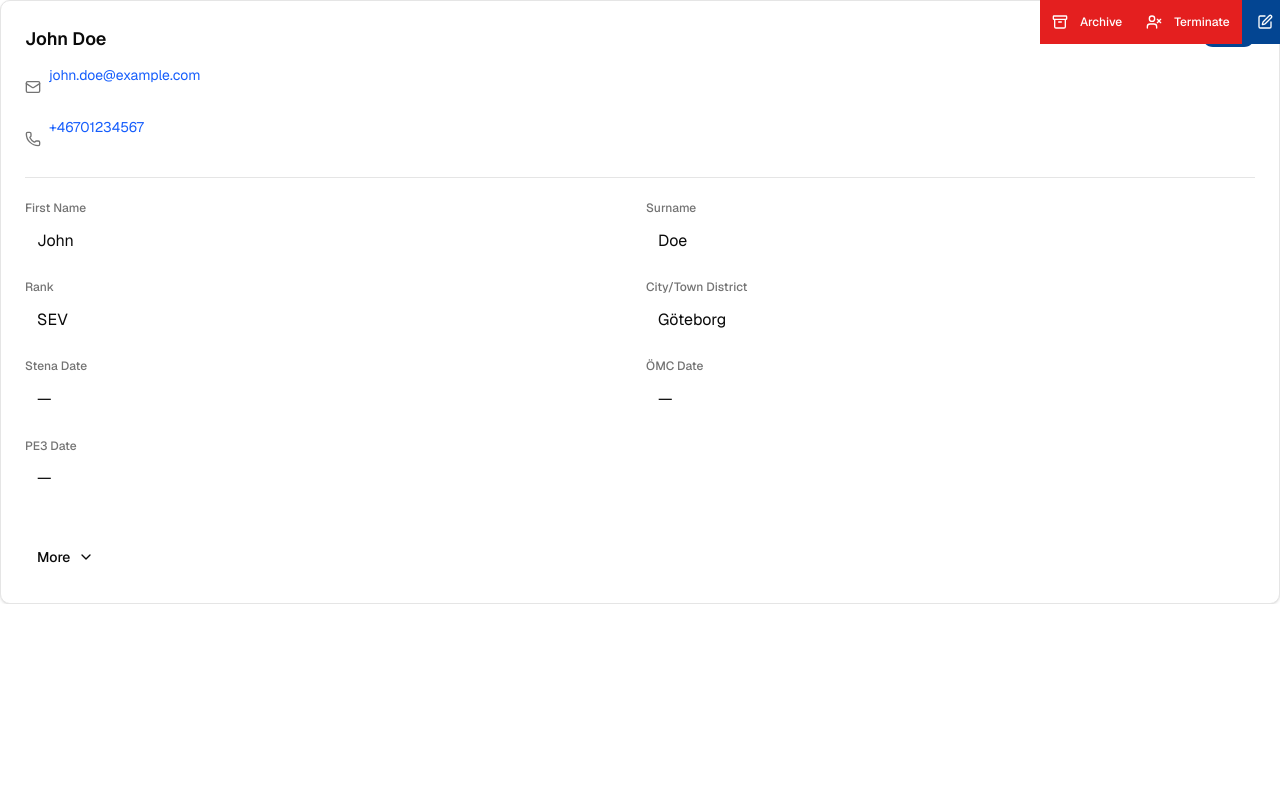
Scenario: EmployeeCard - Always-Visible Fields (Story 12.8) › should not duplicate always-visible fields in expanded section on mobile
Expand the card
Click the button with aria-label "Expand details": [66, 557] box [25,535,106,579]
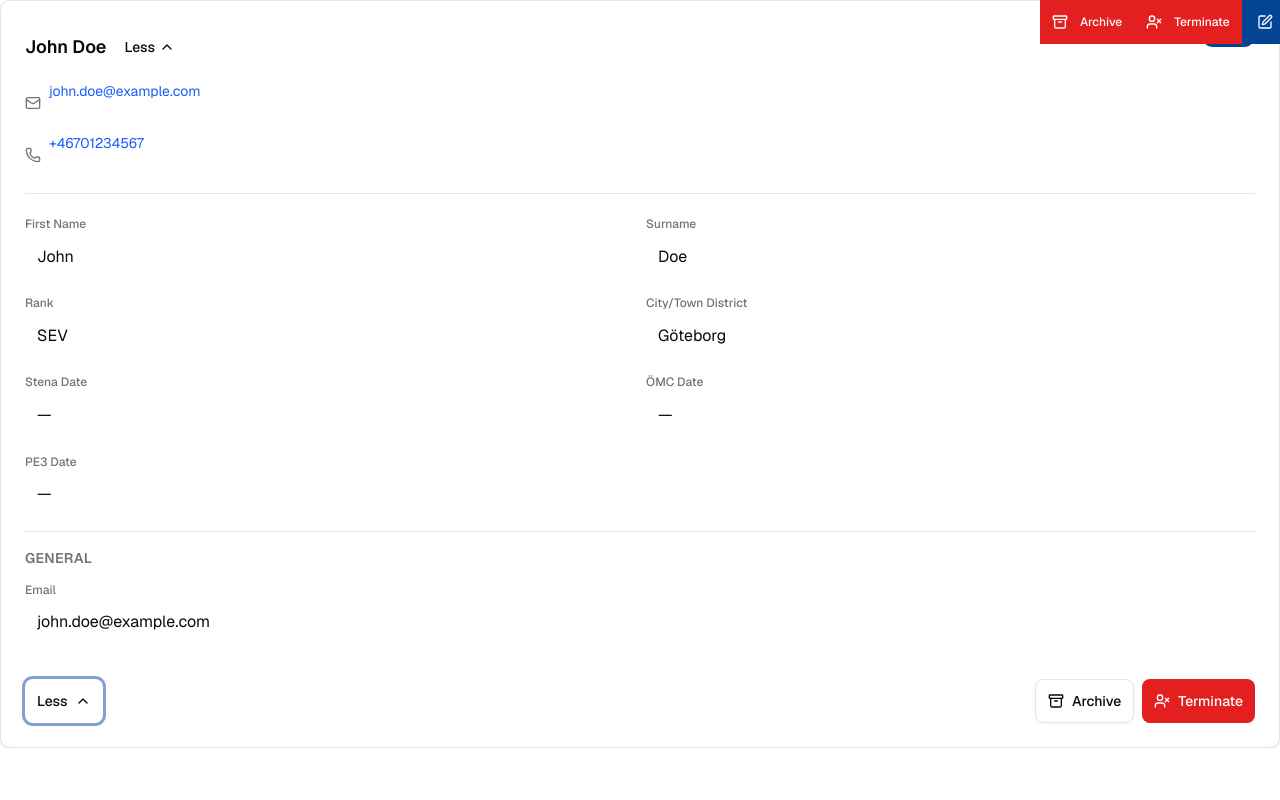
Check: the button "Less" in the row of "Active" is shown, box [114,25,185,69]
